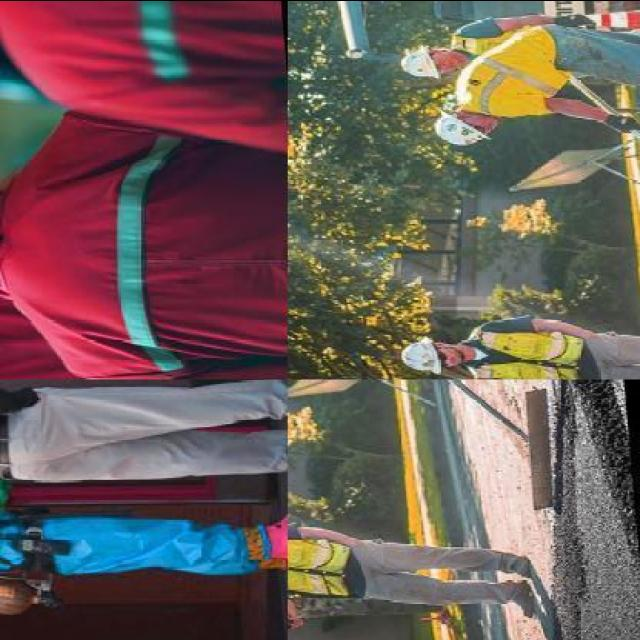helmet: (430, 104, 488, 160), (398, 36, 441, 88), (397, 334, 445, 375)
jacket: (459, 316, 587, 378)
